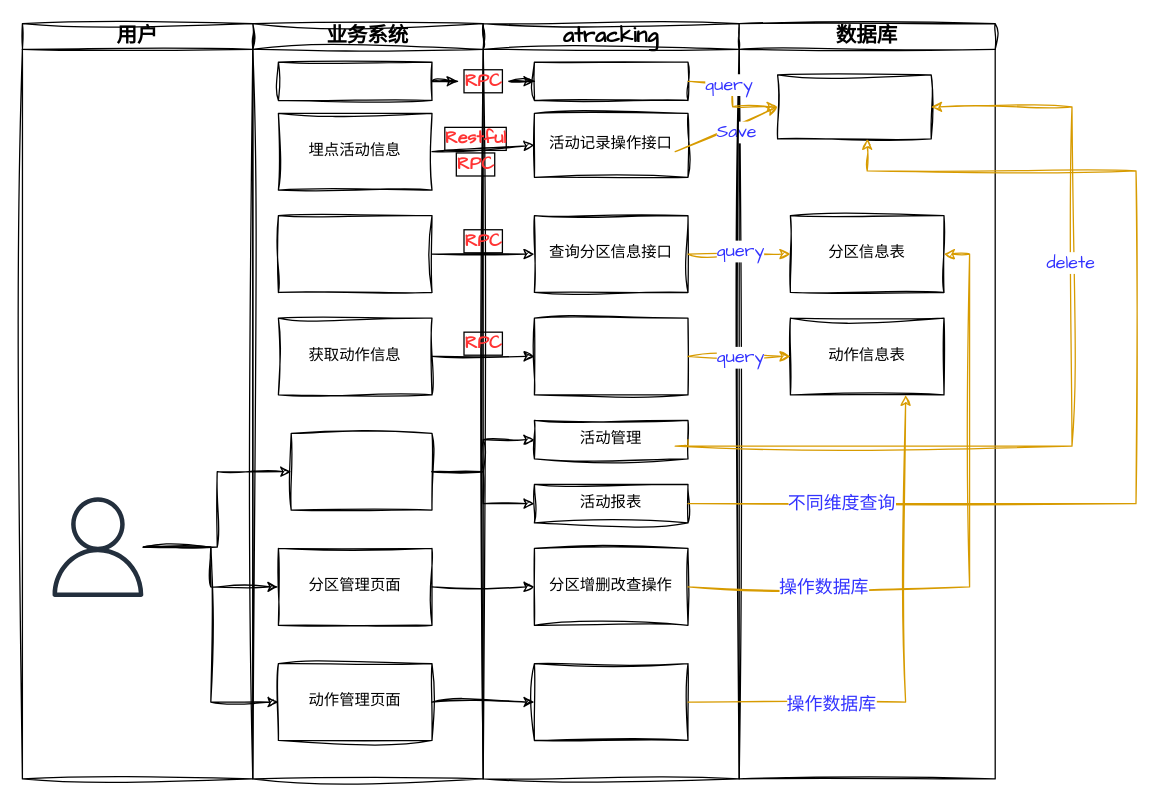
Some shapes in this 1169 by 801 pixel diagram are drawn without their labels. Here are the shapes that lost their labels. From the top down, the centre of each, then its label:
(354,80): 查询活动记录
(610,80): 条件查询活动记录
(853,106): 活动记录表
(354,253): 获取分区信息
(610,356): 查询动作信息接口
(361,471): 活动管理页面
(610,701): 动作增删改查操作
